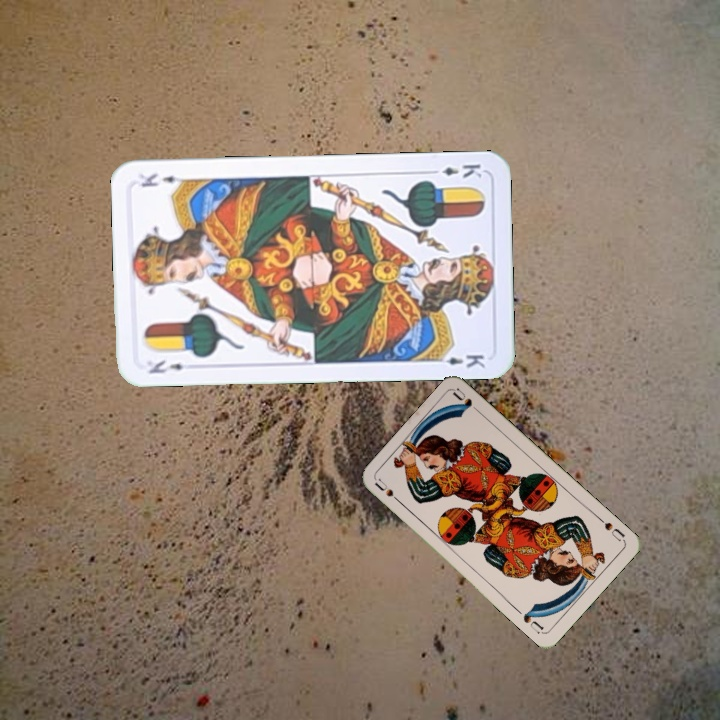EK: (425, 160, 484, 180), (145, 356, 186, 376)
SU: (371, 474, 406, 508), (593, 513, 627, 544)
